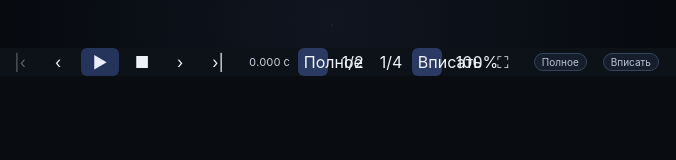
Test: PreviewPlayer continuous transport › starts playback from an empty gap before an image clip, without editing the project
The image size is (676, 160).
Click the button named "Воспроизвести" at (100, 62), box [81,48,119,76]
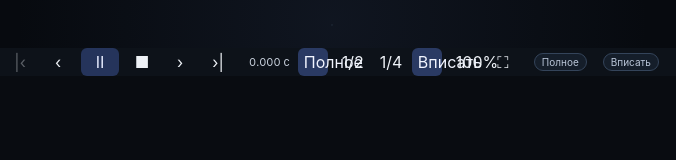
Expected: the button named "Пауза" is shown, [81,48,119,76]
